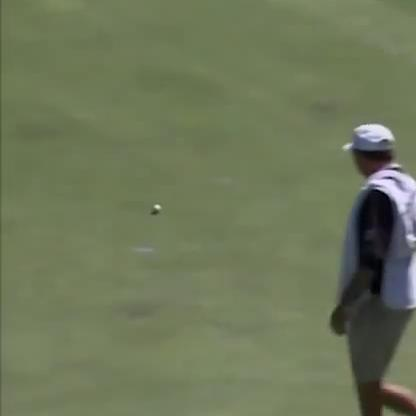golfball: (152, 200, 162, 211)
